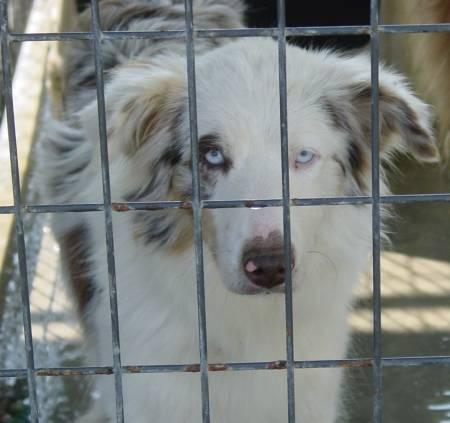dog: (105, 42, 372, 365)
